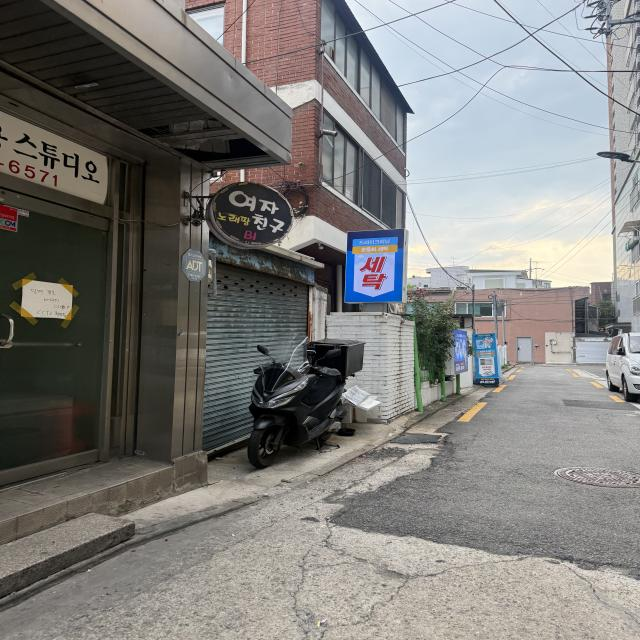motorcycle: (230, 325, 395, 470)
